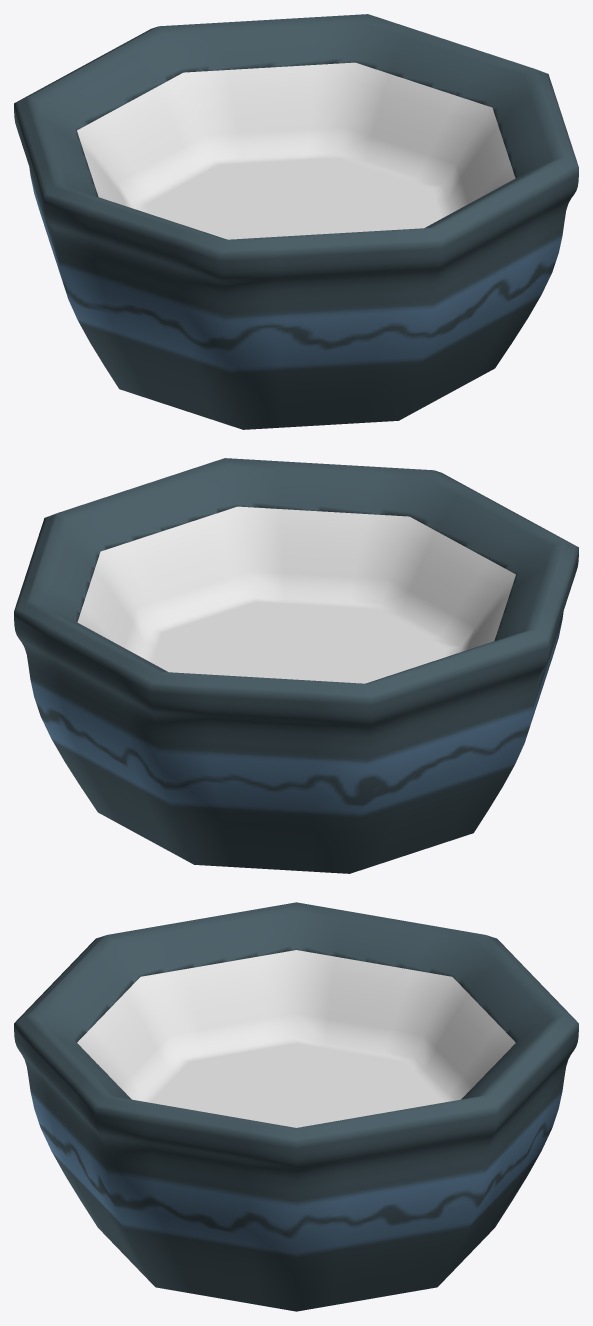
File: SmallPlanter.fbx
3 renders of one model, top to bottom at view 1: azimuth 30°, elevation 25°; view 2: azimuth 150°, elevation 25°; view 3: azimuth 270°, elevation 25°, orthographic. The views are drawn at different scales.
Visible parts, largest first — view 1: SmallPot.001; view 2: SmallPot.001; view 3: SmallPot.001.
Part boxes in pixels (x1,y1,x2,y2): SmallPot.001: (14,14,578,429); SmallPot.001: (14,458,578,873); SmallPot.001: (14,902,578,1311).
Bounding box in the file's own units: 421 × 175 × 421.
2 materials, 1 textured.
